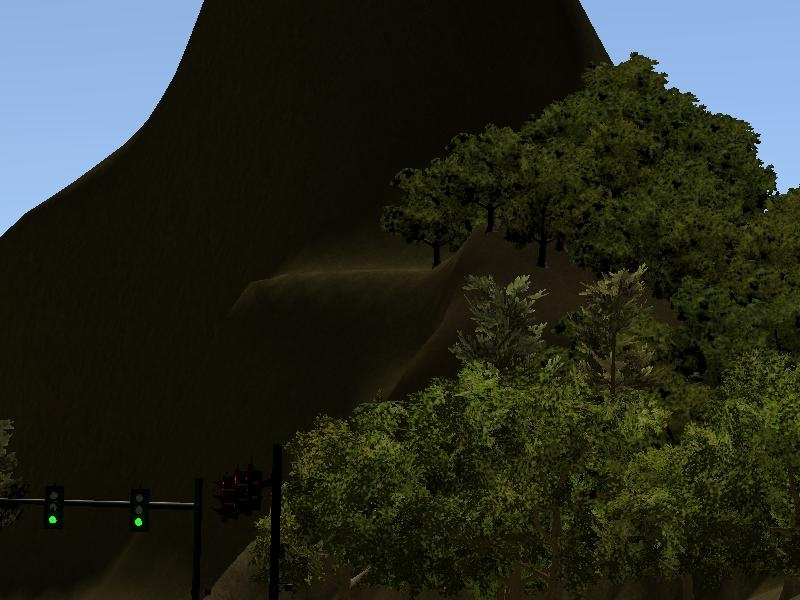GREEN: (127, 488, 151, 538), (43, 478, 64, 531)
